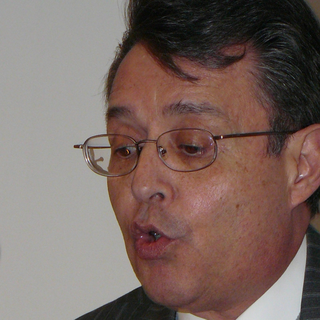eye: (175, 139, 212, 161), (110, 139, 143, 162)
